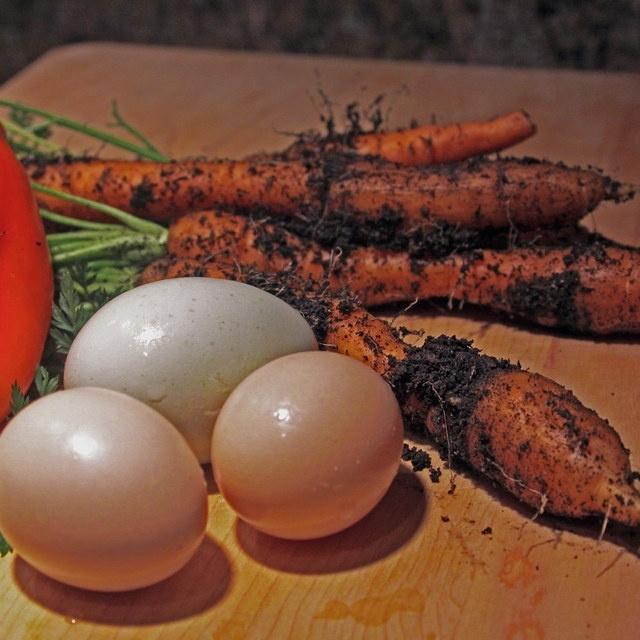egg: (0, 385, 208, 592), (209, 349, 404, 540)
